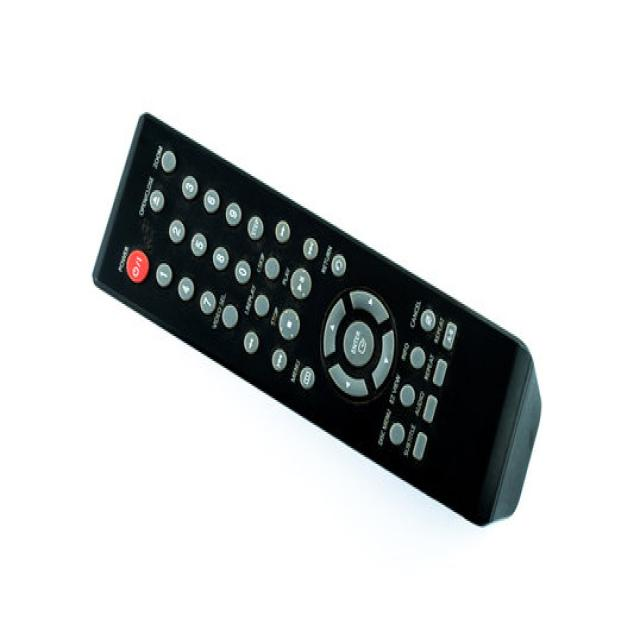remote: (92, 110, 546, 532)
